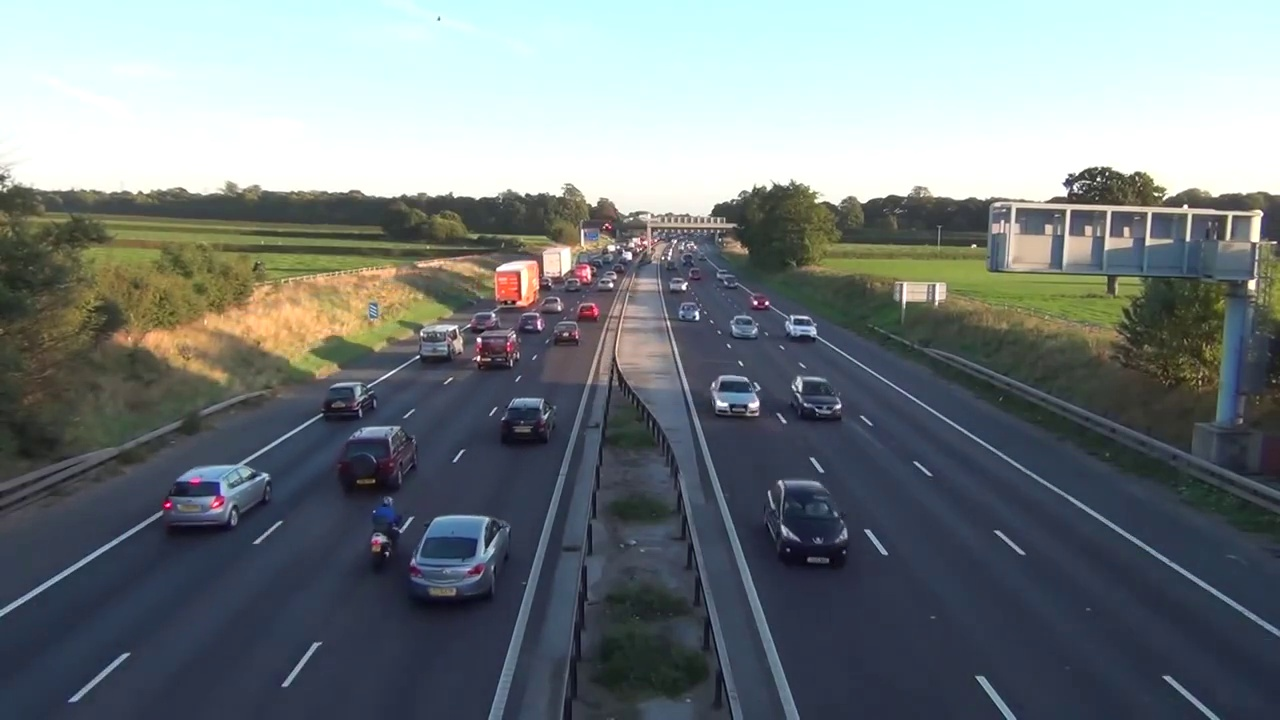bus: (403, 511, 507, 609), (759, 478, 853, 570), (155, 461, 275, 531), (335, 417, 428, 493), (701, 366, 765, 424), (782, 373, 853, 422), (500, 391, 560, 444), (317, 381, 378, 423), (550, 319, 588, 349), (726, 314, 761, 340), (784, 314, 817, 341), (466, 311, 505, 333), (518, 312, 546, 336), (676, 301, 701, 324), (575, 302, 601, 320), (540, 295, 566, 313), (748, 292, 770, 309), (594, 278, 616, 292), (667, 277, 689, 291), (723, 273, 739, 289), (565, 278, 579, 293), (716, 268, 732, 281), (688, 267, 701, 280), (664, 260, 679, 271), (540, 277, 552, 290), (611, 265, 625, 275), (604, 270, 618, 278), (592, 259, 603, 267), (590, 266, 597, 274)
car: (494, 261, 540, 308), (544, 247, 572, 283)
jeep: (366, 497, 408, 567)
lorry: (416, 325, 464, 366), (477, 331, 523, 366), (573, 259, 574, 271)
minibus: (573, 264, 591, 282), (680, 253, 695, 267)
